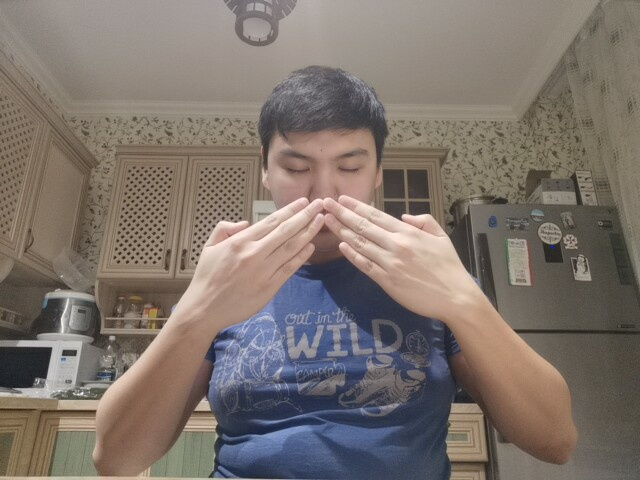Thanks: (183, 194, 491, 334)
